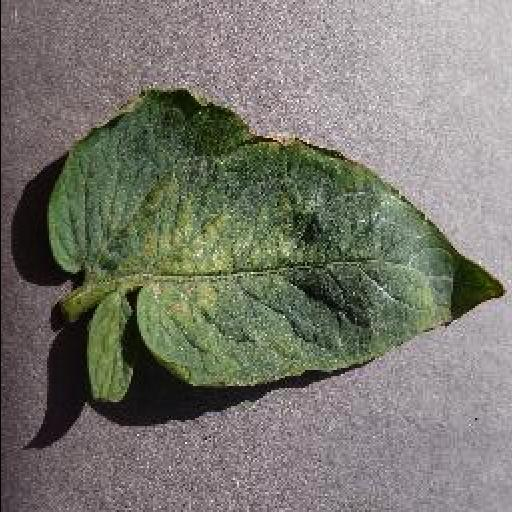disease_tomato: (48, 88, 508, 406)
